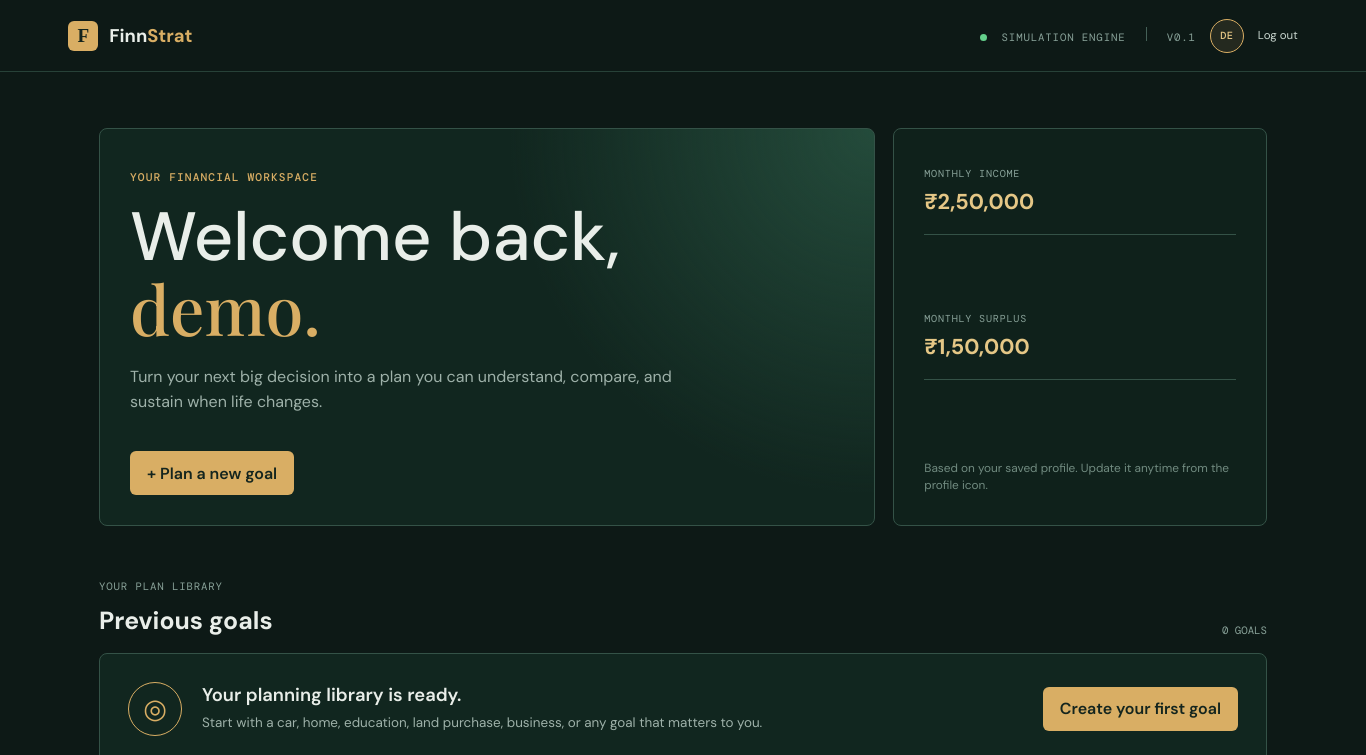
Test: app integration › shows backend errors and clearly labels demo fallback data
The width and height of the screenshot is (1366, 755).
Click the button "+ Plan a new goal" at (212, 473), box x1=130 y1=451 x2=294 y2=495
(page scrolled)
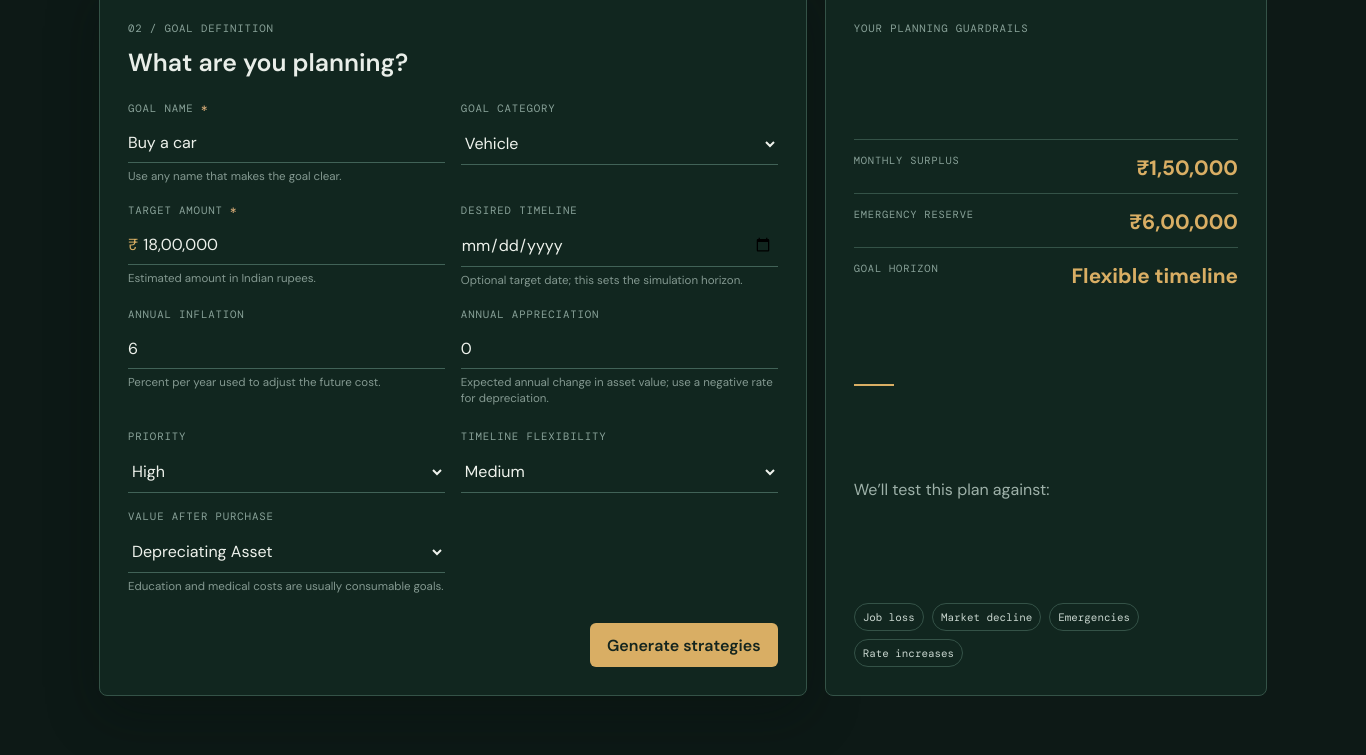
Expected: the heading "What are you planning?" is shown, x1=128 y1=46 x2=408 y2=79
Click the button "Generate strategies" at (684, 645), box x1=590 y1=623 x2=778 y2=667
(page scrolled)
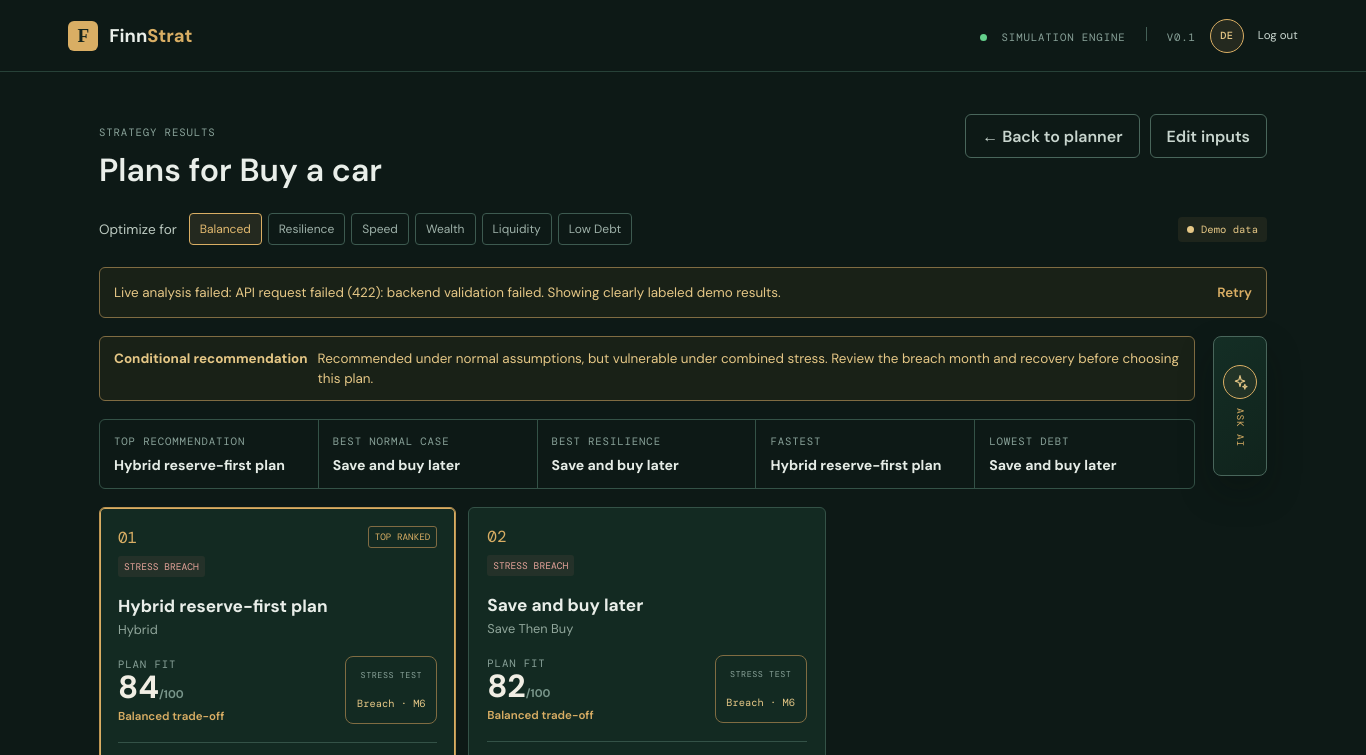
Expected: the message shows "backend validation failed", x1=114 y1=284 x2=781 y2=301
Expected: the text "Demo data" is shown, x1=1178 y1=217 x2=1267 y2=242
